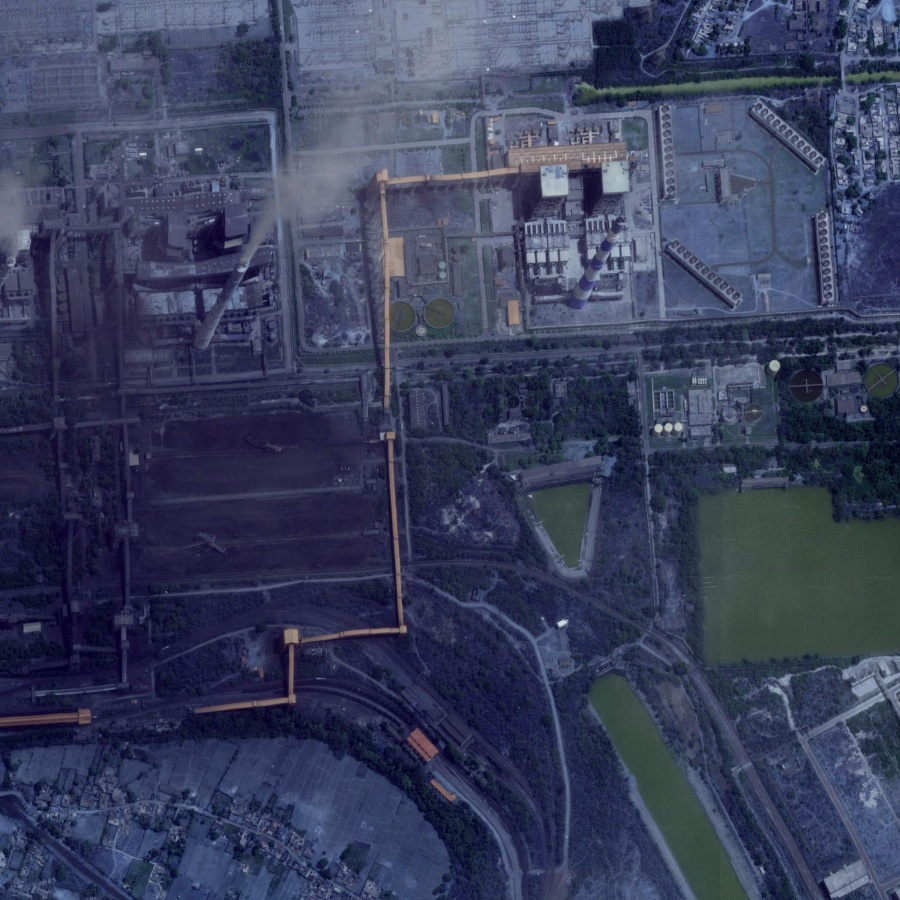PowerPlant: (517, 143, 641, 323)
